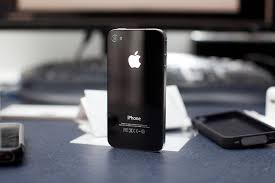iphone: (104, 27, 169, 154)
iphone4: (104, 27, 169, 154)
